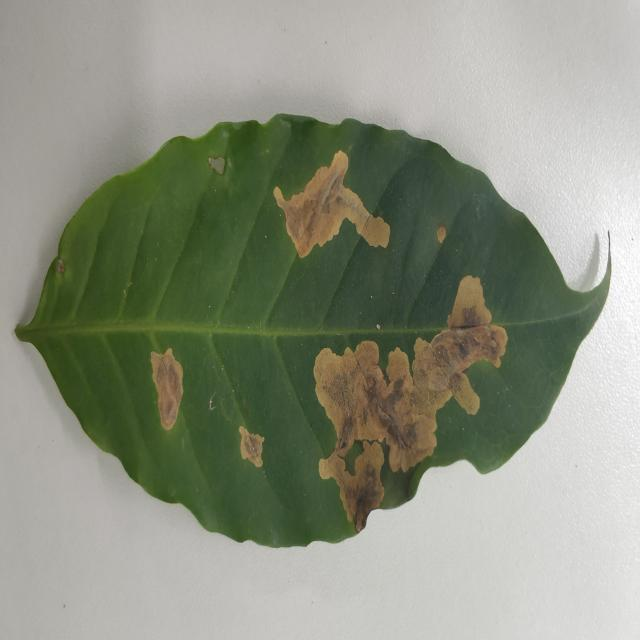Plaga-Minador: (14, 114, 613, 552)
